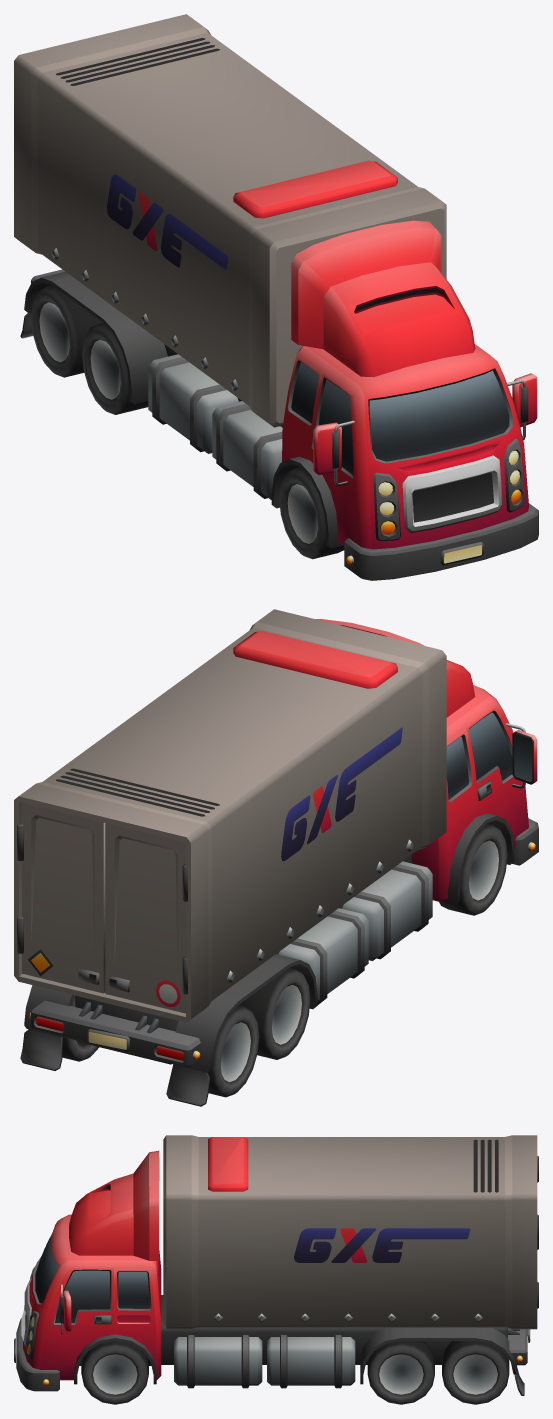
The model's file is Car_16A.fbx.
The picture shows the model from 3 angles, top to bottom: view 1: azimuth 30°, elevation 25°; view 2: azimuth 150°, elevation 25°; view 3: azimuth 270°, elevation 25°; orthographic projection. The views are drawn at different scales.
Parts seen in each view (by area): view 1: Car_16A, Wheel_16A_R.R, Livery_16A, Wheel_16A_M.R, Wheel_16A_F.R; view 2: Car_16A, Door_16A_R.L, Door_16A_R.R, Wheel_16A_M.R, Livery_16A, Wheel_16A_F.R, Wheel_16A_R.R, Wheel_16A_R.L; view 3: Car_16A, Livery_16A, Wheel_16A_R.L, Wheel_16A_M.L, Wheel_16A_F.L.
Part boxes in pixels (x1=…): Car_16A: x1=14, y1=14, x2=538, y2=580; Wheel_16A_R.R: x1=31, y1=285, x2=102, y2=377; Livery_16A: x1=107, y1=174, x2=228, y2=269; Wheel_16A_M.R: x1=82, y1=323, x2=148, y2=414; Wheel_16A_F.R: x1=279, y1=467, x2=344, y2=559; Car_16A: x1=14, y1=609, x2=538, y2=1106; Door_16A_R.L: x1=17, y1=802, x2=105, y2=993; Door_16A_R.R: x1=105, y1=823, x2=187, y2=1013; Wheel_16A_M.R: x1=238, y1=968, x2=310, y2=1059; Livery_16A: x1=281, y1=727, x2=402, y2=861; Wheel_16A_F.R: x1=439, y1=823, x2=507, y2=915; Wheel_16A_R.R: x1=207, y1=1005, x2=259, y2=1097; Wheel_16A_R.L: x1=62, y1=995, x2=99, y2=1061; Car_16A: x1=14, y1=1135, x2=537, y2=1395; Livery_16A: x1=294, y1=1228, x2=470, y2=1262; Wheel_16A_R.L: x1=442, y1=1341, x2=509, y2=1404; Wheel_16A_M.L: x1=367, y1=1341, x2=434, y2=1404; Wheel_16A_F.L: x1=81, y1=1341, x2=148, y2=1404.
Size of the model in its own units: 3.01 by 3.8 by 8.49.
